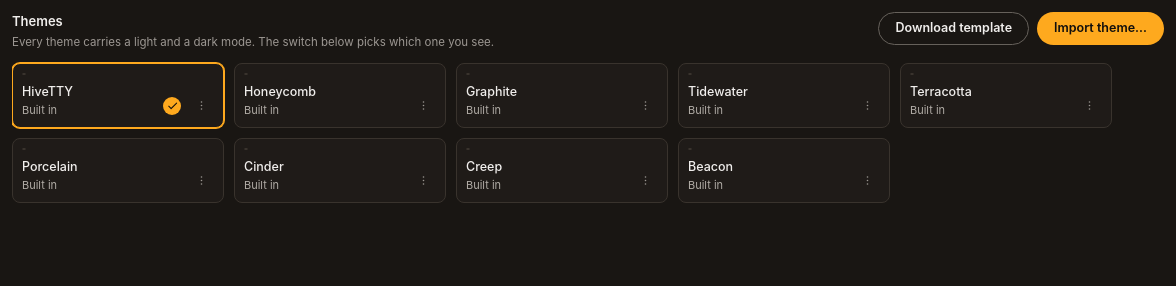
ThemeGallery › offers no Remove on cinder
Click the button named "Cinder actions" at (424, 181), box [411,168,436,193]
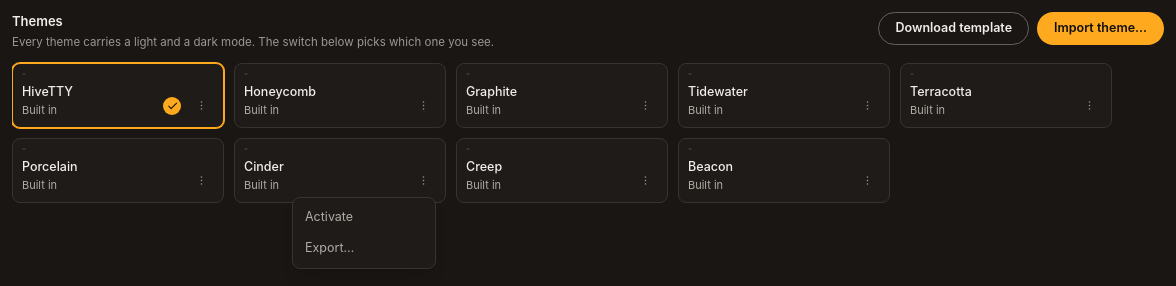
Expected: the menu item "Export…" is shown, [305,240,354,255]
